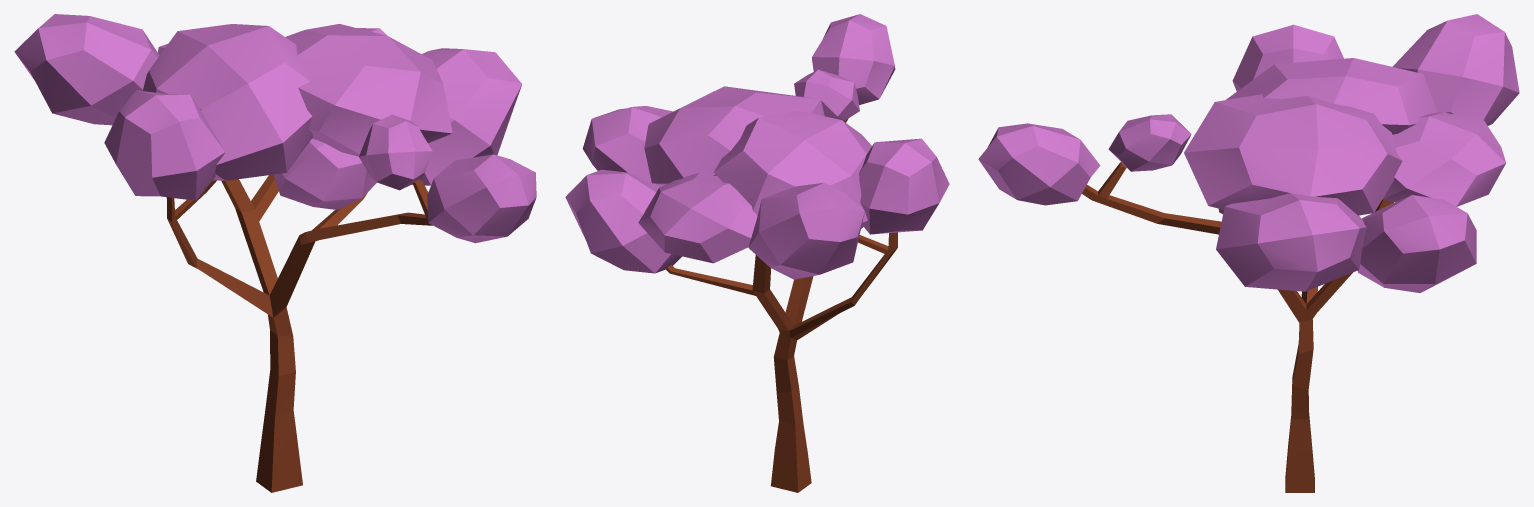
File: Tree_01.FBX
The picture shows the model from 3 angles, left to right: view 1: azimuth 30°, elevation 25°; view 2: azimuth 150°, elevation 25°; view 3: azimuth 270°, elevation 25°; orthographic projection. The views are drawn at different scales.
Visible parts, largest first — view 1: Tree_01; view 2: Tree_01; view 3: Tree_01.
Part boxes in pixels (x1=…): Tree_01: x1=14, y1=14, x2=536, y2=492; Tree_01: x1=565, y1=14, x2=949, y2=492; Tree_01: x1=978, y1=14, x2=1519, y2=492.
Size of the model in its own units: 115 by 121 by 143.
